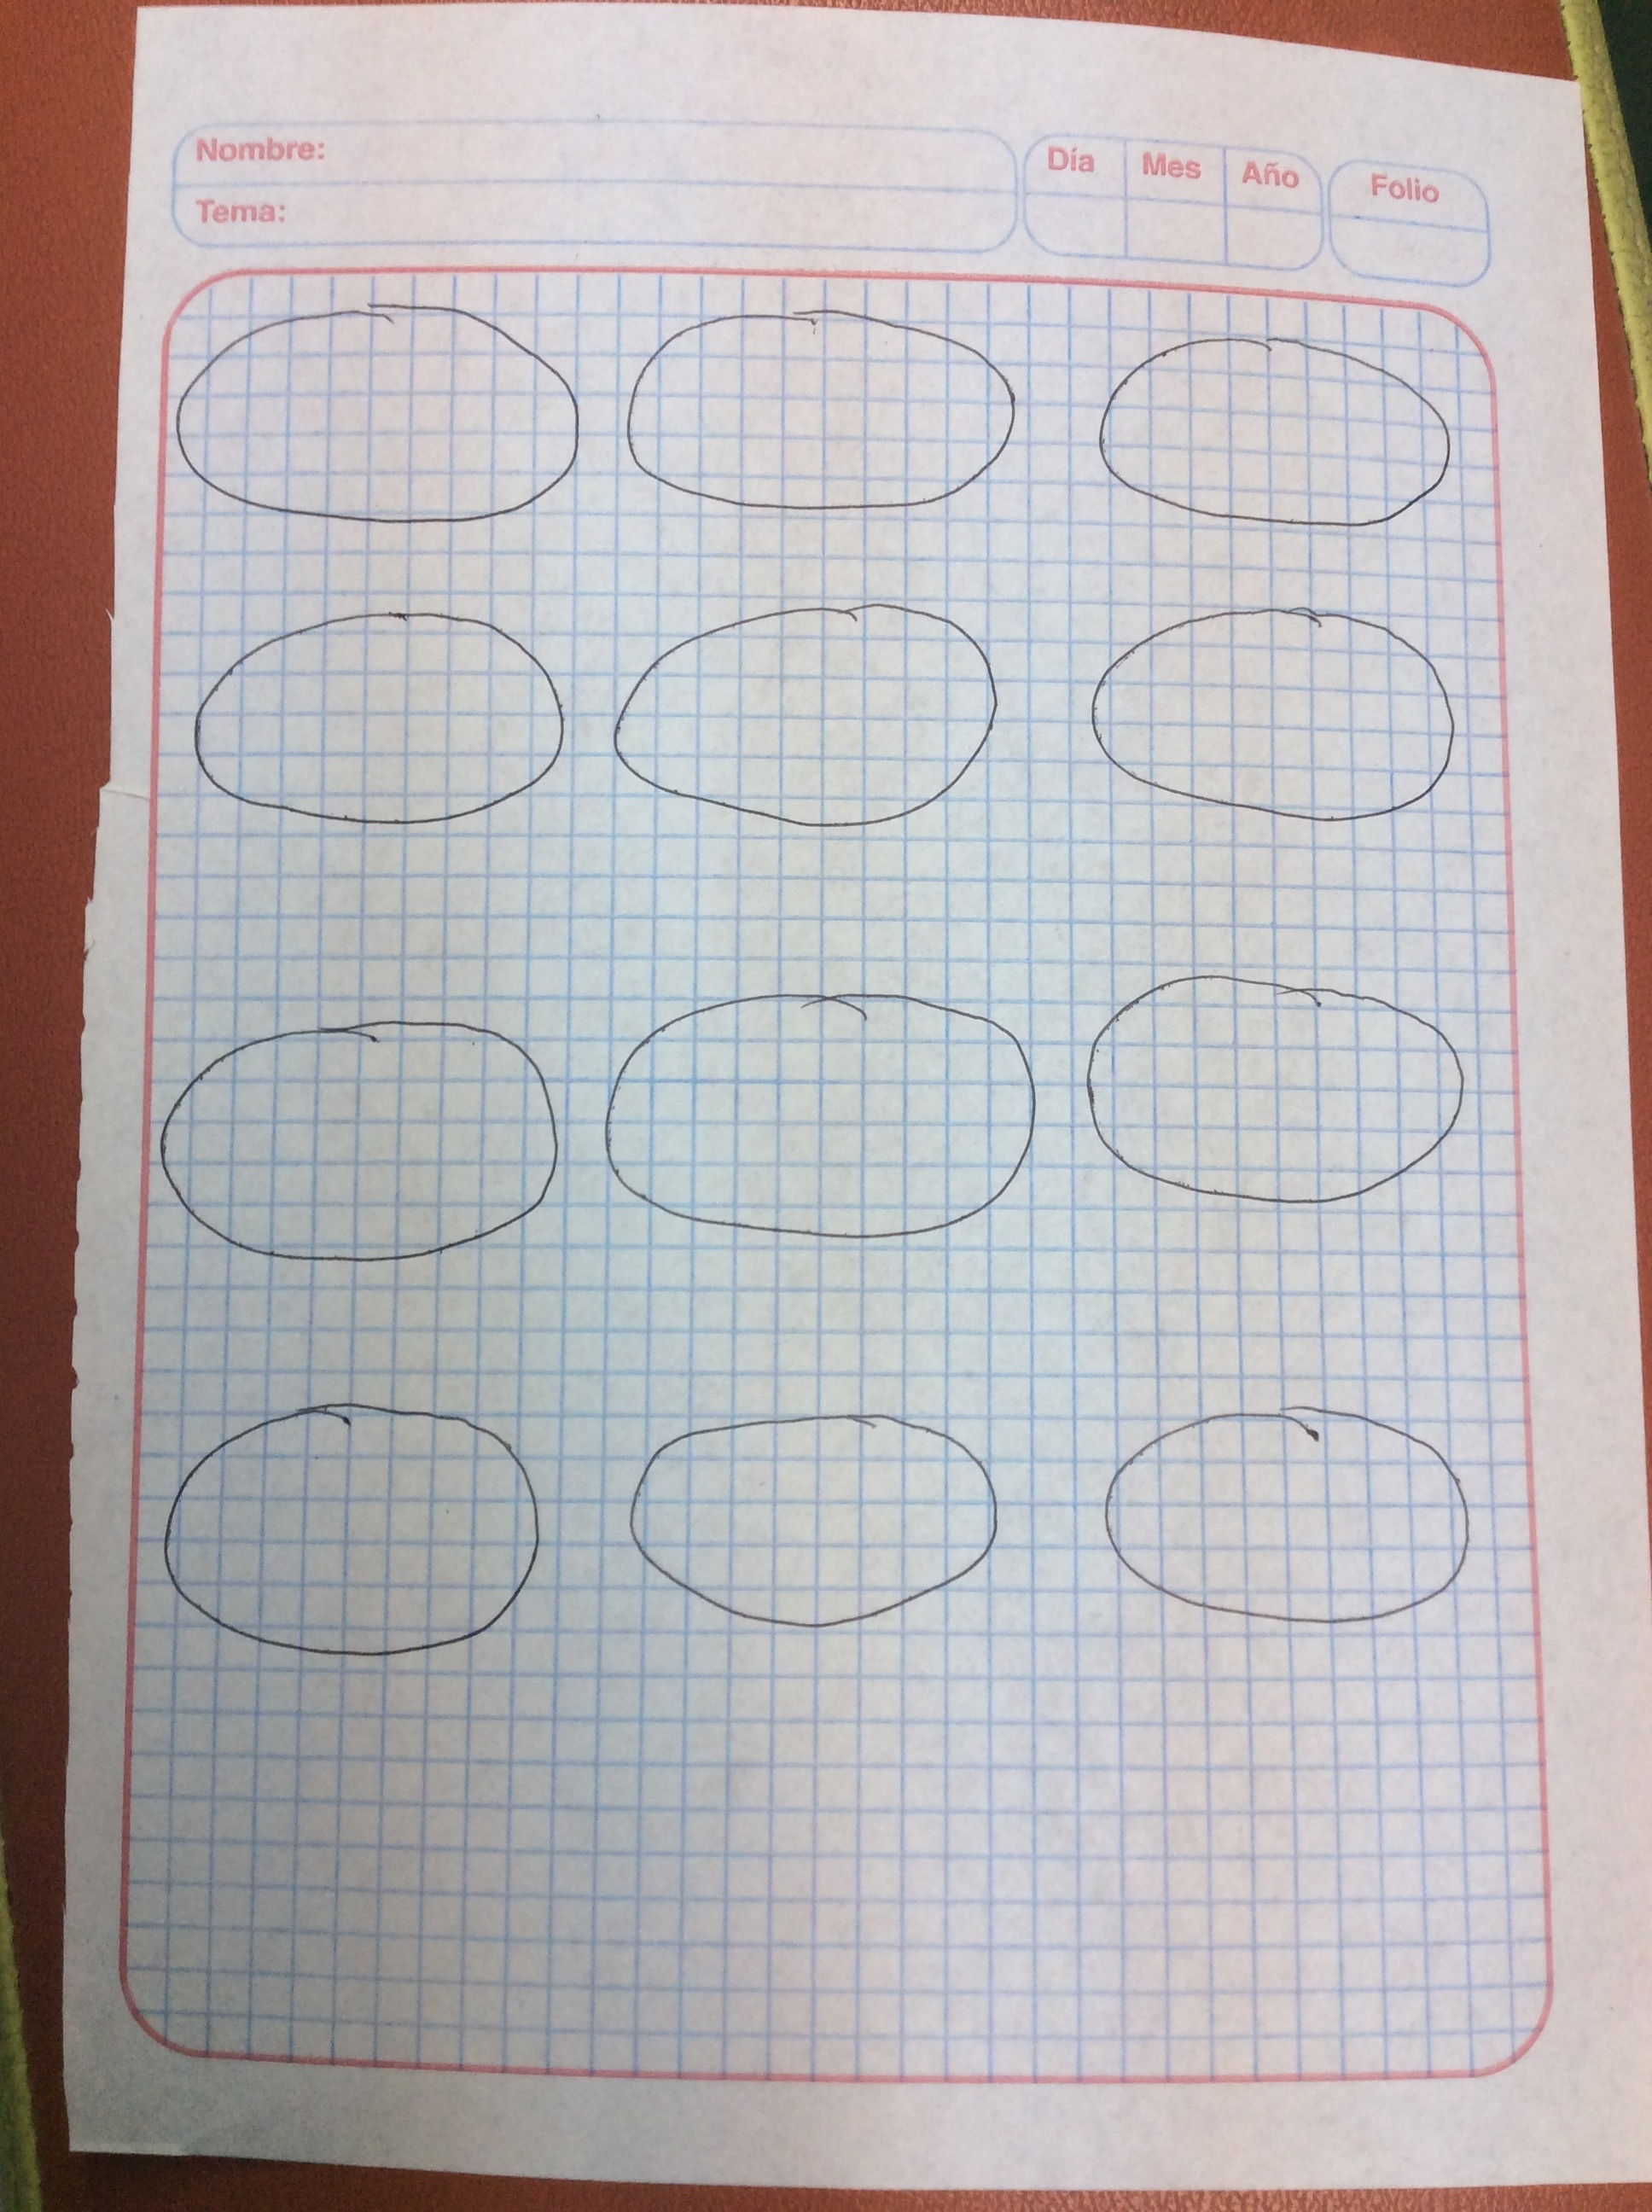start_end: (585, 966, 1046, 1249), (149, 1372, 559, 1690), (1071, 1379, 1510, 1659), (1071, 952, 1498, 1239), (153, 998, 567, 1287), (165, 265, 588, 540), (595, 586, 1019, 850), (1067, 579, 1484, 847), (602, 1400, 1029, 1659), (168, 583, 578, 847), (613, 283, 1036, 529), (1074, 307, 1480, 543)
